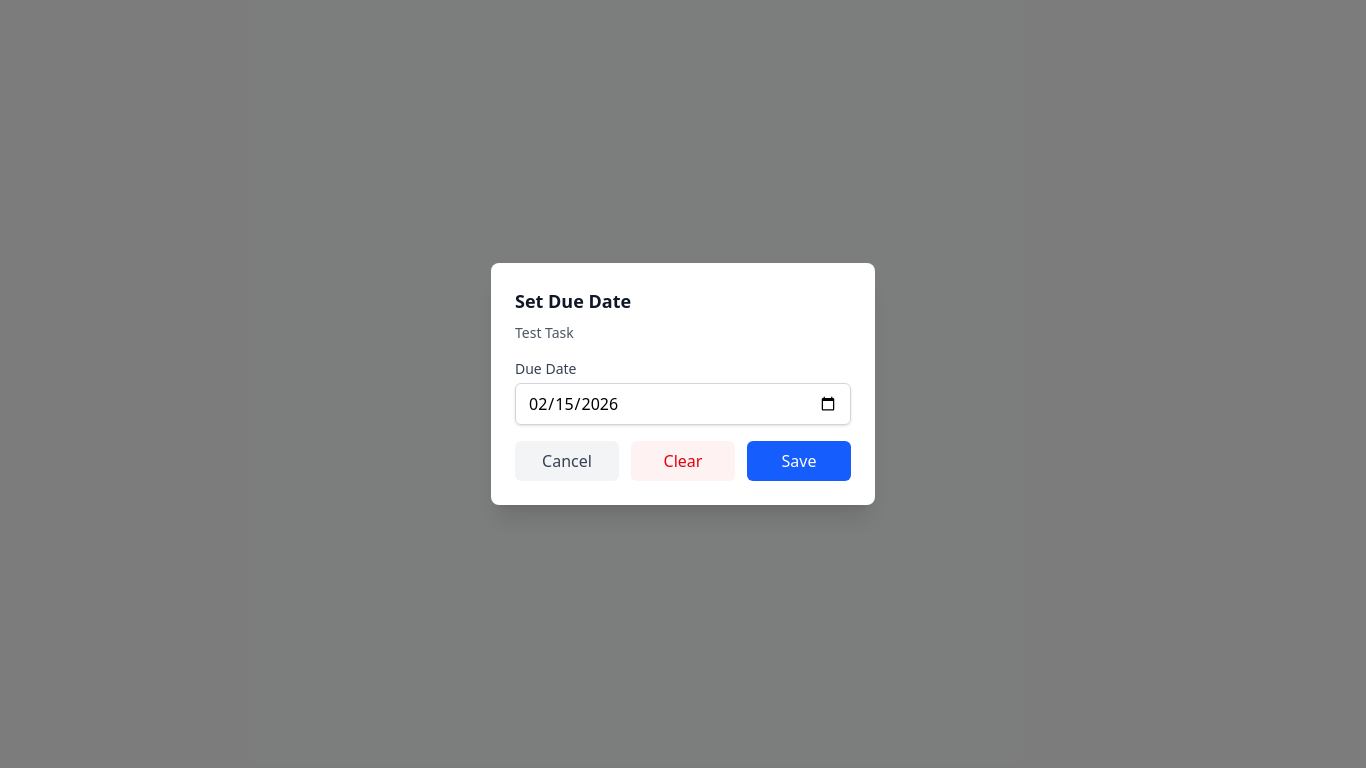
Test: DueDateModal › disables buttons while saving
What coordinates should you click on to do the following:
click the button with test id "due-date-save"
I would click on:
 (799, 461)
Its box is [747,441,851,481].
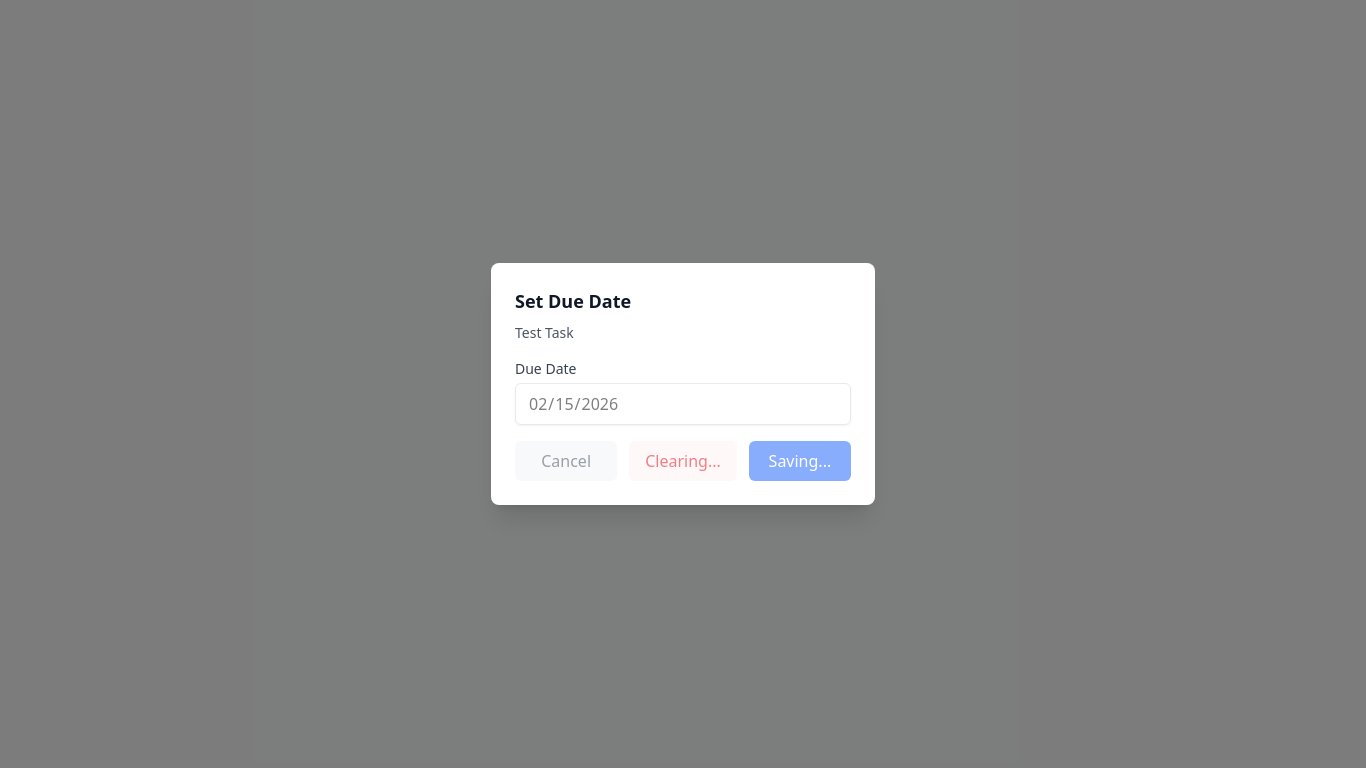
Now the button with test id "due-date-cancel" is disabled, box [515,441,617,481]
Now the button with test id "due-date-clear" is disabled, box [629,441,737,481]
Now the button with test id "due-date-save" is disabled, box [749,441,851,481]
